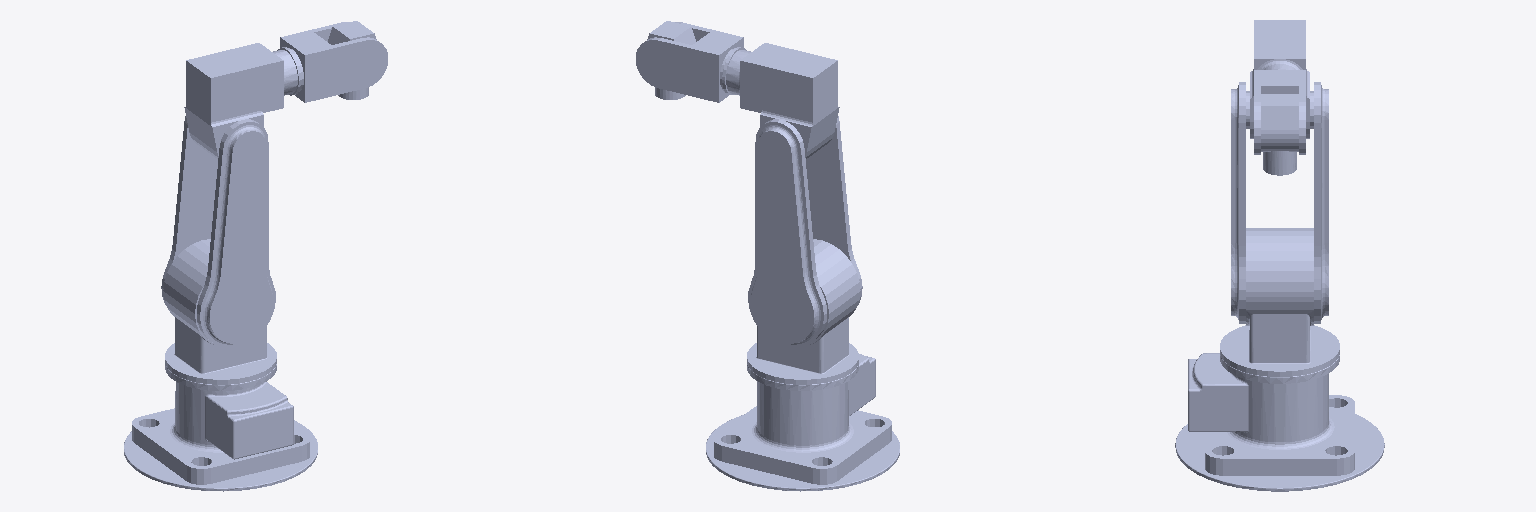
robot.urdf — robot_urdf:
<?xml version="1.0" encoding="utf-8"?>
<!-- This URDF was automatically created by SolidWorks to URDF Exporter! Originally created by Stephen Brawner (brawner@gmail.com) 
     Commit Version: 1.6.0-4-g7f85cfe  Build Version: 1.6.7995.38578
     For more information, please see http://wiki.ros.org/sw_urdf_exporter -->
<robot
  name="robot_urdf">

  <link name="world"/> 
  <joint name="base_joint" type="fixed"> 
    <parent link="world"/> 
    <child link="base_link"/> 
    <origin rpy="0 0 0" xyz="0.0 0.0 0.0"/> 
  </joint>

  <link
    name="base_link">
    <inertial>
      <origin
        xyz="7.8939E-09 -0.0339 0.096614"
        rpy="0 0 0" />
      <mass
        value="18.511" />
      <inertia
        ixx="0.39704"
        ixy="2.2189E-08"
        ixz="5.8978E-08"
        iyy="0.31428"
        iyz="0.038846"
        izz="0.45263" />
    </inertial>
    <visual>
      <origin
        xyz="0 0 0"
        rpy="0 0 0" />
      <geometry>
        <mesh
          filename="package://robot_urdf/meshes/base_link.STL" />
      </geometry>
      <material
        name="">
        <color
          rgba="0.79216 0.81961 0.93333 1" />
      </material>
    </visual>
    <collision>
      <origin
        xyz="0 0 0"
        rpy="0 0 0" />
      <geometry>
        <mesh
          filename="package://robot_urdf/meshes/base_link.STL" />
      </geometry>
    </collision>
  </link>
  <link
    name="link1">
    <inertial>
      <origin
        xyz="-0.0025874 2.8547E-09 0.21313"
        rpy="0 0 0" />
      <mass
        value="14.531" />
      <inertia
        ixx="0.28147"
        ixy="-5.7151E-09"
        ixz="0.0057082"
        iyy="0.30849"
        iyz="-4.585E-09"
        izz="0.10991" />
    </inertial>
    <visual>
      <origin
        xyz="0 0 0"
        rpy="0 0 0" />
      <geometry>
        <mesh
          filename="package://robot_urdf/meshes/link1.STL" />
      </geometry>
      <material
        name="">
        <color
          rgba="0.79216 0.81961 0.93333 1" />
      </material>
    </visual>
    <collision>
      <origin
        xyz="0 0 0"
        rpy="0 0 0" />
      <geometry>
        <mesh
          filename="package://robot_urdf/meshes/link1.STL" />
      </geometry>
    </collision>
  </link>
  <joint
    name="Joint1"
    type="revolute">
    <origin
      xyz="0 0 0.16"
      rpy="0 0 0" />
    <parent
      link="base_link" />
    <child
      link="link1" />
    <axis
      xyz="0 0 1" />
    <limit
      lower="-3.14"
      upper="3.14"
      effort="300"
      velocity="3" />
  </joint>
  <link
    name="Link2">
    <inertial>
      <origin
        xyz="0.17998 -0.0091492 -2.584E-11"
        rpy="0 0 0" />
      <mass
        value="13.333" />
      <inertia
        ixx="0.14585"
        ixy="0.027265"
        ixz="1.0901E-10"
        iyy="0.68081"
        iyz="5.3211E-11"
        izz="0.59354" />
    </inertial>
    <visual>
      <origin
        xyz="0 0 0"
        rpy="0 0 0" />
      <geometry>
        <mesh
          filename="package://robot_urdf/meshes/Link2.STL" />
      </geometry>
      <material
        name="">
        <color
          rgba="0.79216 0.81961 0.93333 1" />
      </material>
    </visual>
    <collision>
      <origin
        xyz="0 0 0"
        rpy="0 0 0" />
      <geometry>
        <mesh
          filename="package://robot_urdf/meshes/Link2.STL" />
      </geometry>
    </collision>
  </link>
  <joint
    name="Joint2"
    type="revolute">
    <origin
      xyz="-0.0077226 0 0.336"
      rpy="1.5708 -1.5708 0" />
    <parent
      link="link1" />
    <child
      link="Link2" />
    <axis
      xyz="0 0 1" />
    <limit
      lower="-1.57"
      upper="1.57"
      effort="300"
      velocity="3" />
  </joint>
  <link
    name="Link3">
    <inertial>
      <origin
        xyz="0.11996 -0.13264 7.2074E-10"
        rpy="0 0 0" />
      <mass
        value="11.891" />
      <inertia
        ixx="0.32103"
        ixy="0.038118"
        ixz="-8.0115E-10"
        iyy="0.074071"
        iyz="2.4488E-10"
        izz="0.35264" />
    </inertial>
    <visual>
      <origin
        xyz="0 0 0"
        rpy="0 0 0" />
      <geometry>
        <mesh
          filename="package://robot_urdf/meshes/Link3.STL" />
      </geometry>
      <material
        name="">
        <color
          rgba="0.79216 0.81961 0.93333 1" />
      </material>
    </visual>
    <collision>
      <origin
        xyz="0 0 0"
        rpy="0 0 0" />
      <geometry>
        <mesh
          filename="package://robot_urdf/meshes/Link3.STL" />
      </geometry>
    </collision>
  </link>
  <joint
    name="Joint3"
    type="revolute">
    <origin
      xyz="0.49936 -0.025384 0"
      rpy="0 0 0" />
    <parent
      link="Link2" />
    <child
      link="Link3" />
    <axis
      xyz="0 0 1" />
    <limit
      lower="0"
      upper="3.14"
      effort="300"
      velocity="3" />
  </joint>
  <link
    name="Link4">
    <inertial>
      <origin
        xyz="2.5601E-11 -0.018265 1.014E-07"
        rpy="0 0 0" />
      <mass
        value="1.1219" />
      <inertia
        ixx="0.0054371"
        ixy="-2.9136E-09"
        ixz="-2.7465E-09"
        iyy="0.0021242"
        iyz="1.6913E-09"
        izz="0.005947" />
    </inertial>
    <visual>
      <origin
        xyz="0 0 0"
        rpy="0 0 0" />
      <geometry>
        <mesh
          filename="package://robot_urdf/meshes/Link4.STL" />
      </geometry>
      <material
        name="">
        <color
          rgba="0.79216 0.81961 0.93333 1" />
      </material>
    </visual>
    <collision>
      <origin
        xyz="0 0 0"
        rpy="0 0 0" />
      <geometry>
        <mesh
          filename="package://robot_urdf/meshes/Link4.STL" />
      </geometry>
    </collision>
  </link>
  <joint
    name="Joint4"
    type="revolute">
    <origin
      xyz="0.14365 -0.41771 0"
      rpy="0 0 -1.5708" />
    <parent
      link="Link3" />
    <child
      link="Link4" />
    <axis
      xyz="0 0 1" />
    <limit
      lower="0"
      upper="3.14"
      effort="300"
      velocity="3" />
  </joint>

</robot>

--- Facts derived from the render (not from the file) ---
The picture shows the robot from 3 angles, left to right: view 1: azimuth 30°, elevation 25°; view 2: azimuth 150°, elevation 25°; view 3: azimuth 270°, elevation 25°; orthographic projection.
Robot: robot_urdf — 6 links, 5 joints (4 revolute, 1 fixed); root link world; default pose: all joints at 0.
Visible links, largest first — view 1: Link2, base_link, Link3, link1, Link4; view 2: base_link, Link2, Link3, link1, Link4; view 3: base_link, link1, Link2, Link3, Link4.
Boxes of the visible links, x1,y1,x2,y2 form: Link2: (161,116,275,347); base_link: (124,364,317,491); Link3: (184,22,387,158); link1: (163,239,276,384); Link4: (328,21,376,99); base_link: (706,354,899,491); Link2: (748,116,862,347); Link3: (636,22,839,158); link1: (747,239,860,384); Link4: (647,21,695,99); base_link: (1175,353,1384,491); link1: (1220,228,1339,376); Link2: (1231,82,1328,323); Link3: (1250,20,1309,154); Link4: (1261,94,1298,175).
Bounding box of the posed robot: 0.7871 × 0.555 × 1.22 m (x, y, z).
Meshes: 5 distinct files referenced, 5 mesh visuals loaded (5 binary STL).
